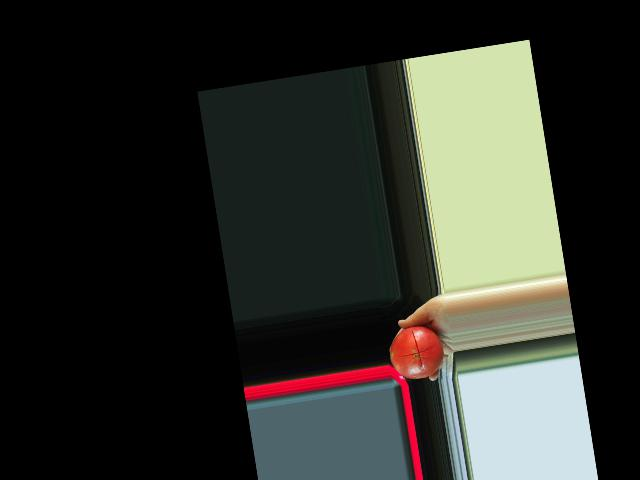tomato: (386, 322, 447, 383)
